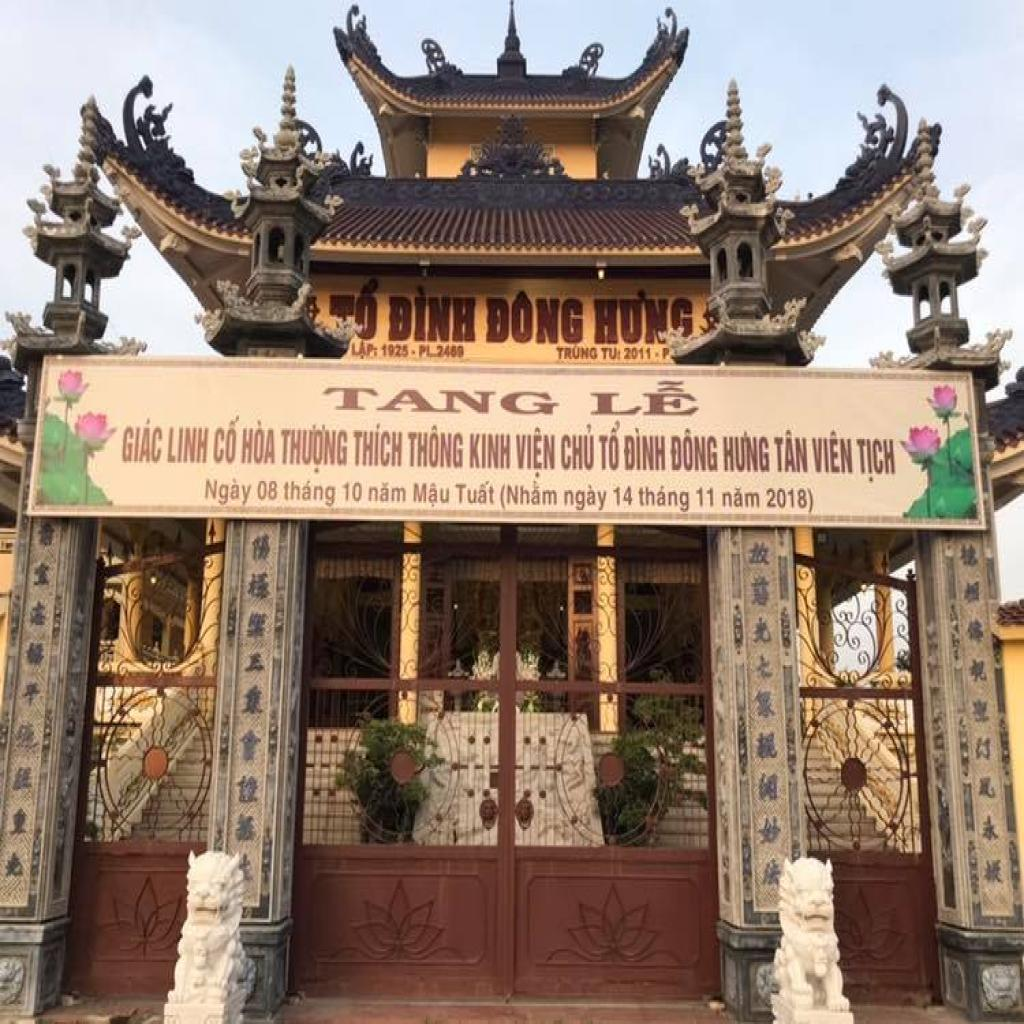text: (322, 384, 561, 421), (484, 288, 586, 346), (386, 286, 478, 346), (589, 379, 703, 421), (592, 288, 672, 346), (280, 423, 351, 479), (407, 423, 465, 472), (352, 421, 404, 472), (669, 426, 720, 476), (722, 428, 773, 476), (514, 426, 558, 481), (623, 424, 669, 476), (120, 416, 165, 466), (855, 434, 898, 486), (498, 476, 560, 512), (810, 428, 854, 478), (467, 428, 513, 472), (165, 423, 212, 466), (239, 417, 277, 470), (560, 422, 596, 476), (771, 428, 811, 476), (352, 277, 381, 343), (283, 476, 337, 510), (638, 482, 692, 516), (204, 474, 256, 508), (764, 483, 816, 517), (212, 410, 242, 468), (562, 481, 612, 514), (595, 419, 624, 474), (411, 479, 452, 512), (453, 481, 497, 510), (722, 483, 762, 512), (367, 481, 407, 507), (418, 342, 467, 360), (556, 344, 599, 364), (340, 479, 365, 507), (255, 479, 280, 505), (612, 483, 635, 510), (351, 340, 378, 362), (381, 342, 411, 360), (624, 344, 654, 362), (695, 483, 715, 510), (600, 344, 622, 364), (661, 346, 670, 363)
